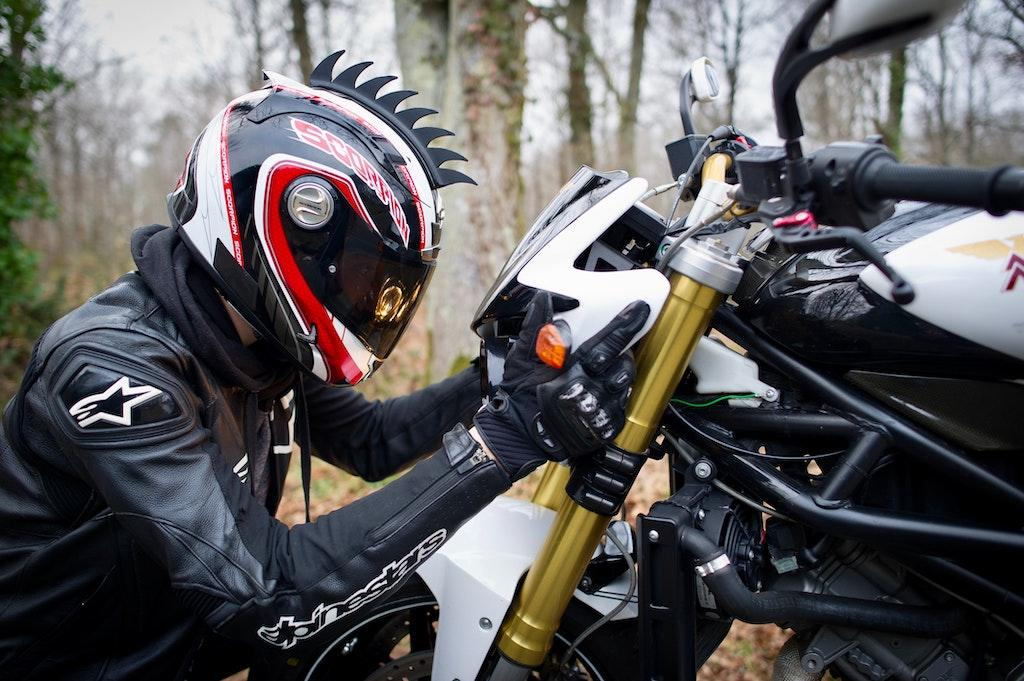helmet: (165, 47, 480, 389)
